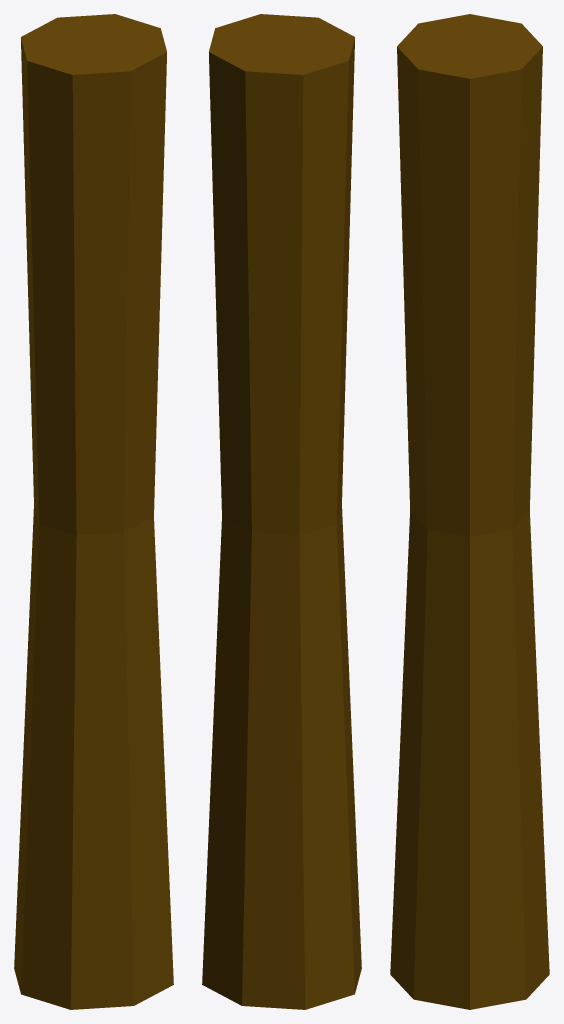
The model's file is trunk.glb.
3 renders of one model, left to right at view 1: azimuth 30°, elevation 25°; view 2: azimuth 150°, elevation 25°; view 3: azimuth 270°, elevation 25°, orthographic.
Parts seen in each view (by area): view 1: Trunk; view 2: Trunk; view 3: Trunk.
Boxes of the visible parts, box(x1,y1,x2,y2) form: Trunk: box(14, 14, 173, 1009); Trunk: box(202, 14, 361, 1009); Trunk: box(390, 14, 549, 1009).
Size of the model in its own units: 0.8041 by 4.91 by 0.7647.
